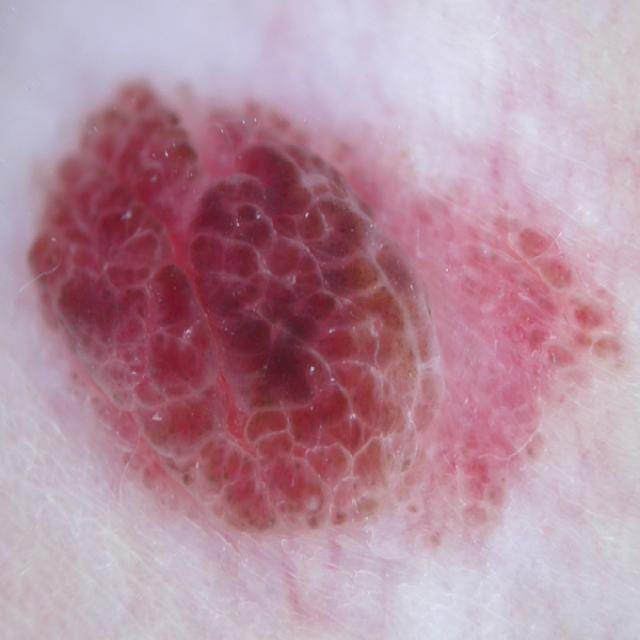NV: (23, 75, 629, 549)
